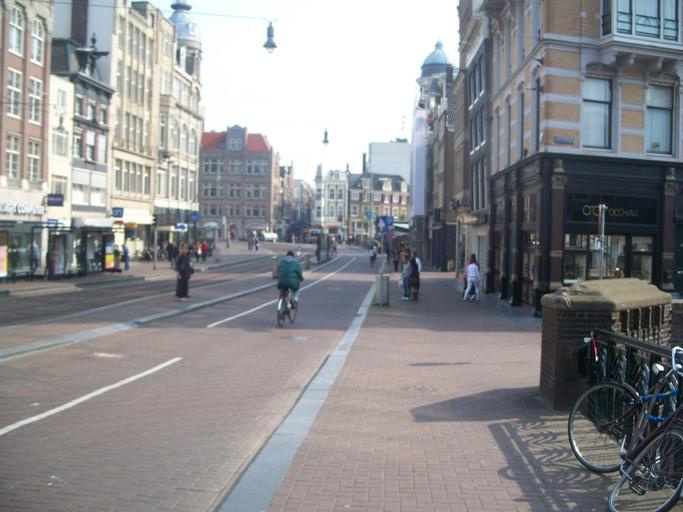non-vehicle: (564, 344, 682, 511), (274, 279, 299, 328)
